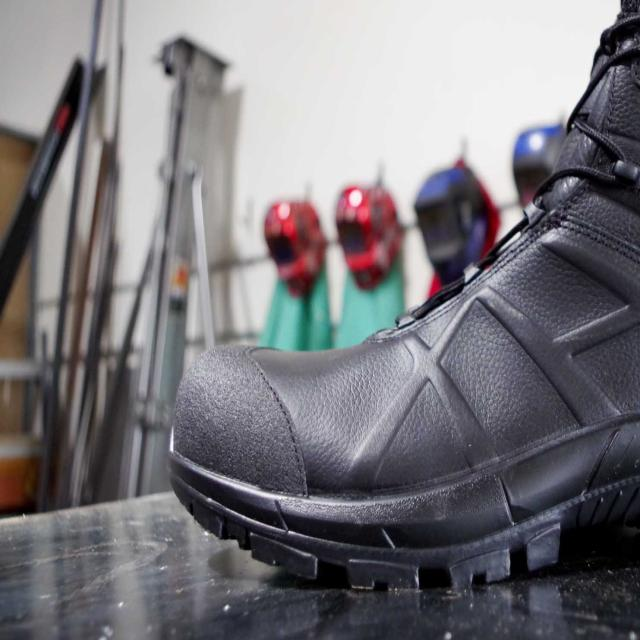shoes: (149, 4, 634, 594)
